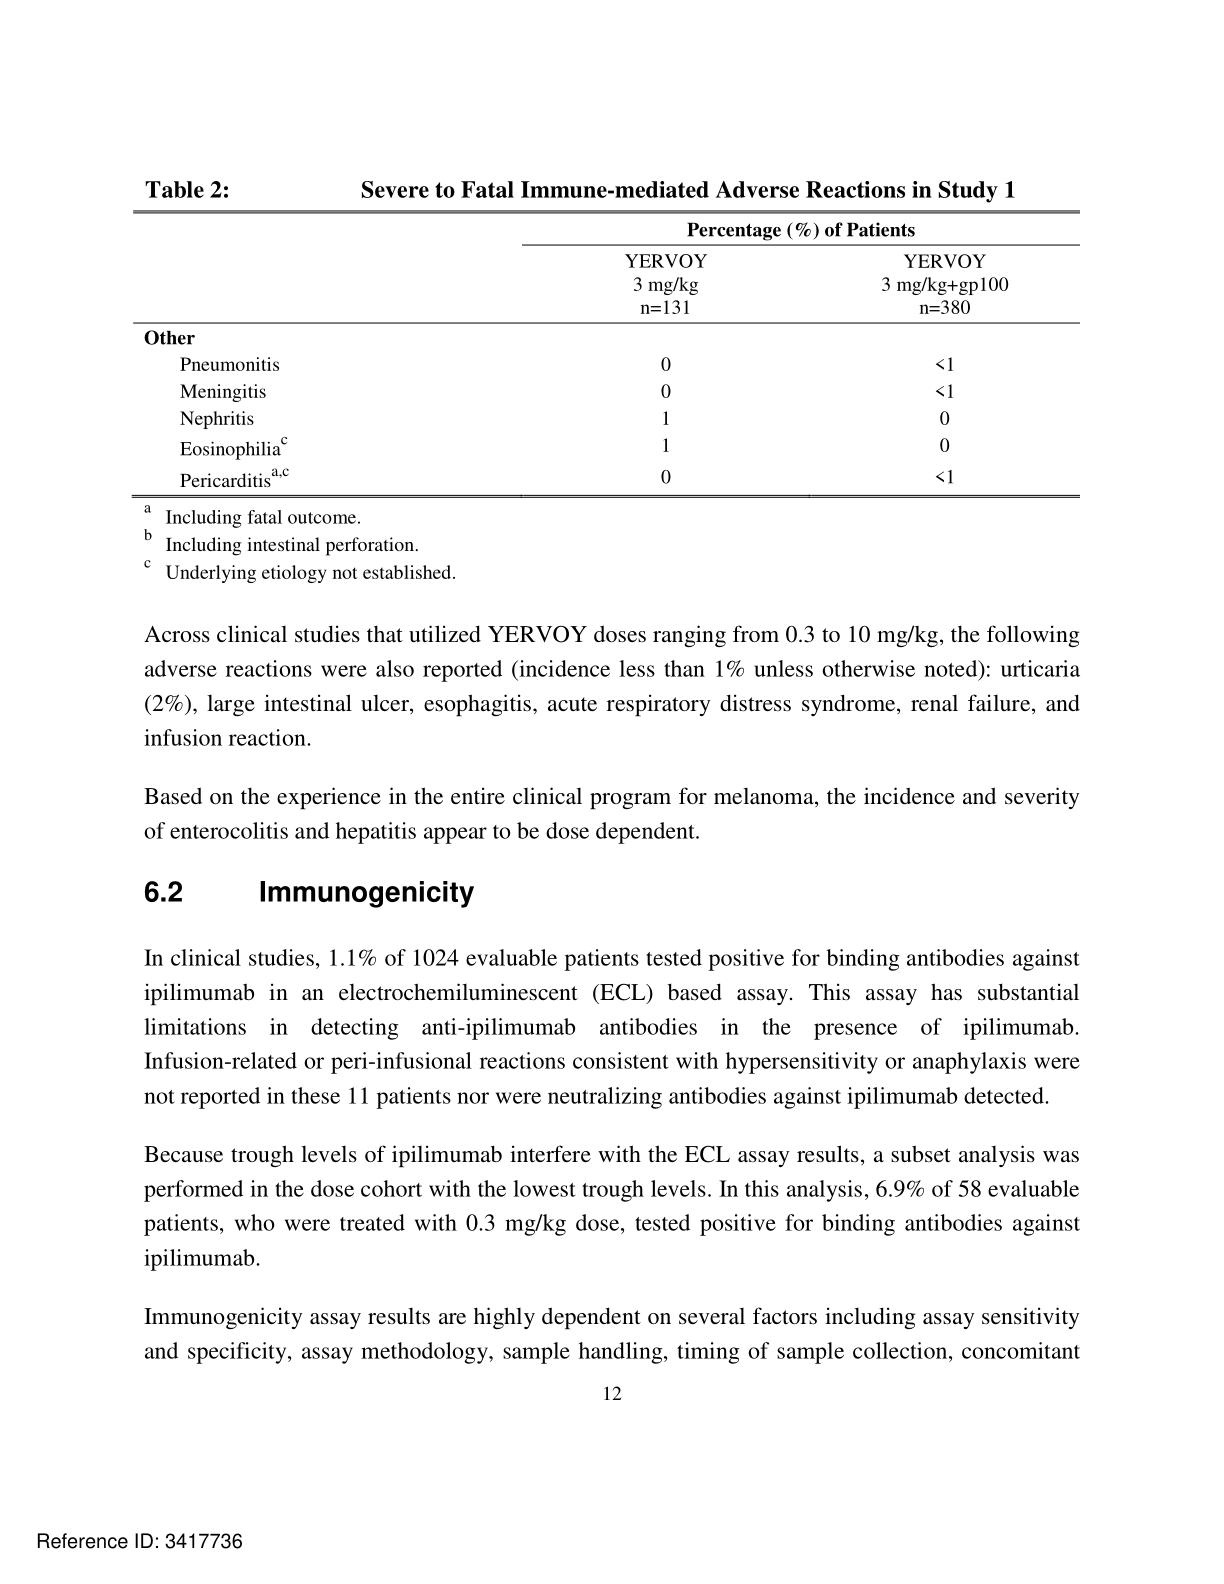partial_lined_merged_cells: (129, 210, 1081, 499)
